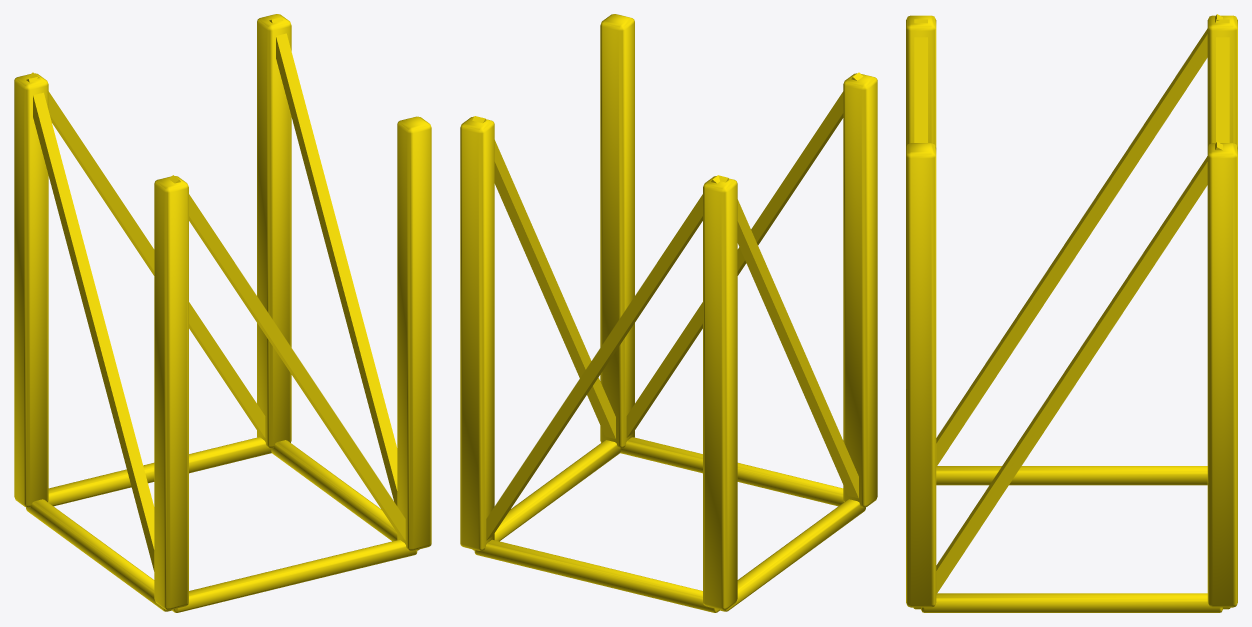
File: crane_mast.glb
3 renders of one model, left to right at view 1: azimuth 30°, elevation 25°; view 2: azimuth 150°, elevation 25°; view 3: azimuth 270°, elevation 25°, orthographic. The views are drawn at different scales.
Parts seen in each view (by area): view 1: Body; view 2: Body; view 3: Body.
Part boxes in pixels (x1,y1,x2,y2): Body: [14, 14, 431, 612]; Body: [460, 14, 877, 612]; Body: [906, 14, 1237, 612].
Size of the model in its own units: 0.99 by 1.54 by 0.99.
